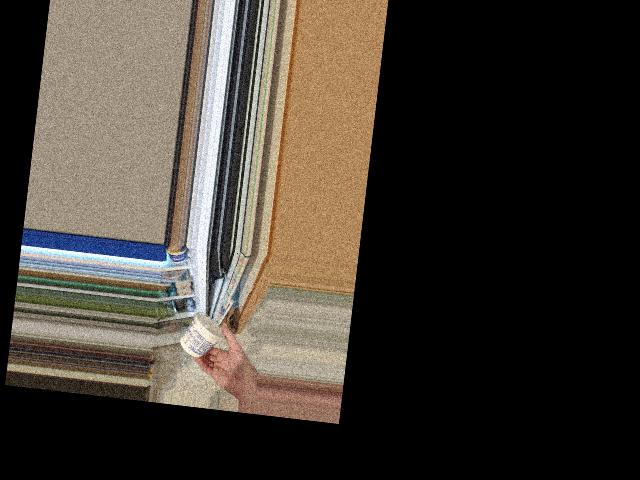cotage: (182, 313, 230, 362)
